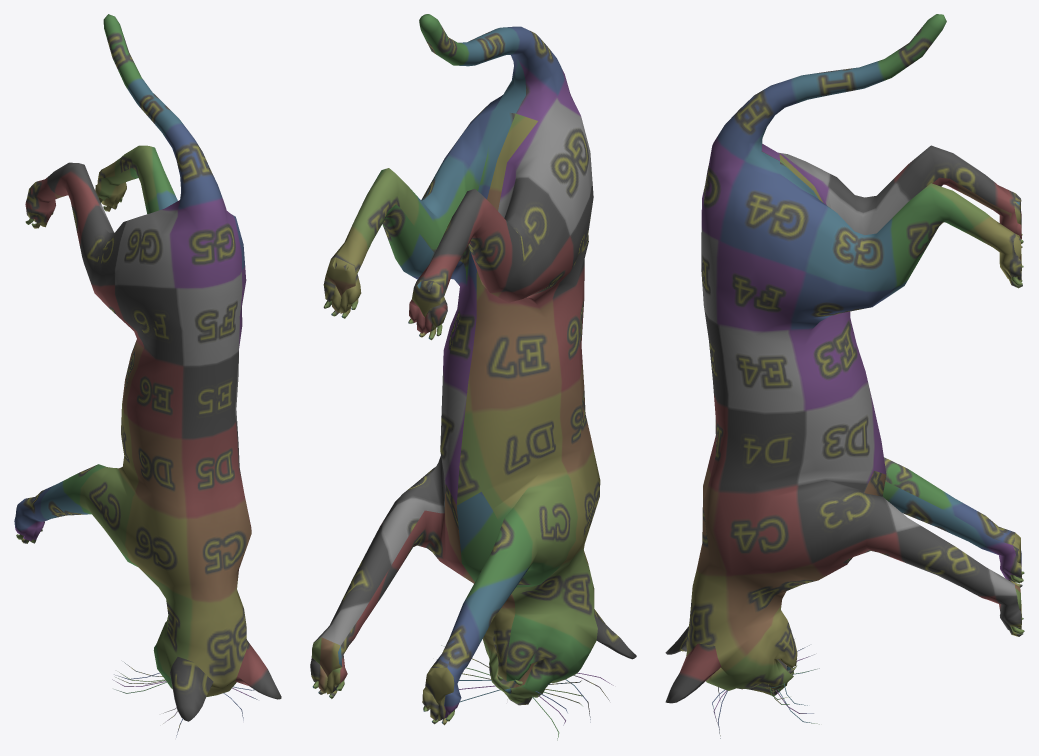
File: jnx_new_uv_same_index.obj
The picture shows the model from 3 angles, left to right: view 1: azimuth 30°, elevation 25°; view 2: azimuth 150°, elevation 25°; view 3: azimuth 270°, elevation 25°; orthographic projection. The views are drawn at different scales.
Parts seen in each view (by area): view 1: wang2:Mesh; view 2: wang2:Mesh; view 3: wang2:Mesh.
Part boxes in pixels (<box>): wang2:Mesh: <box>14,14,281,737</box>; wang2:Mesh: <box>310,14,636,740</box>; wang2:Mesh: <box>665,14,1024,738</box>.
Size of the model in its own units: 12.57 by 61.42 by 28.21.
1 material, 1 textured.
